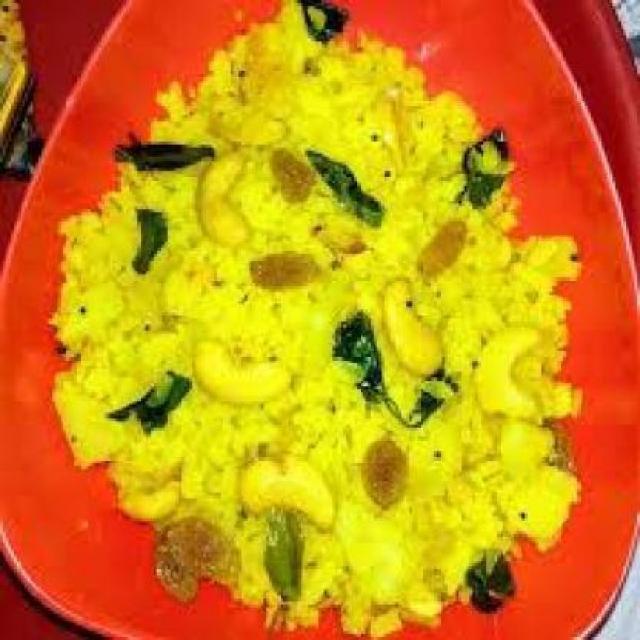poha: (54, 0, 581, 640)
